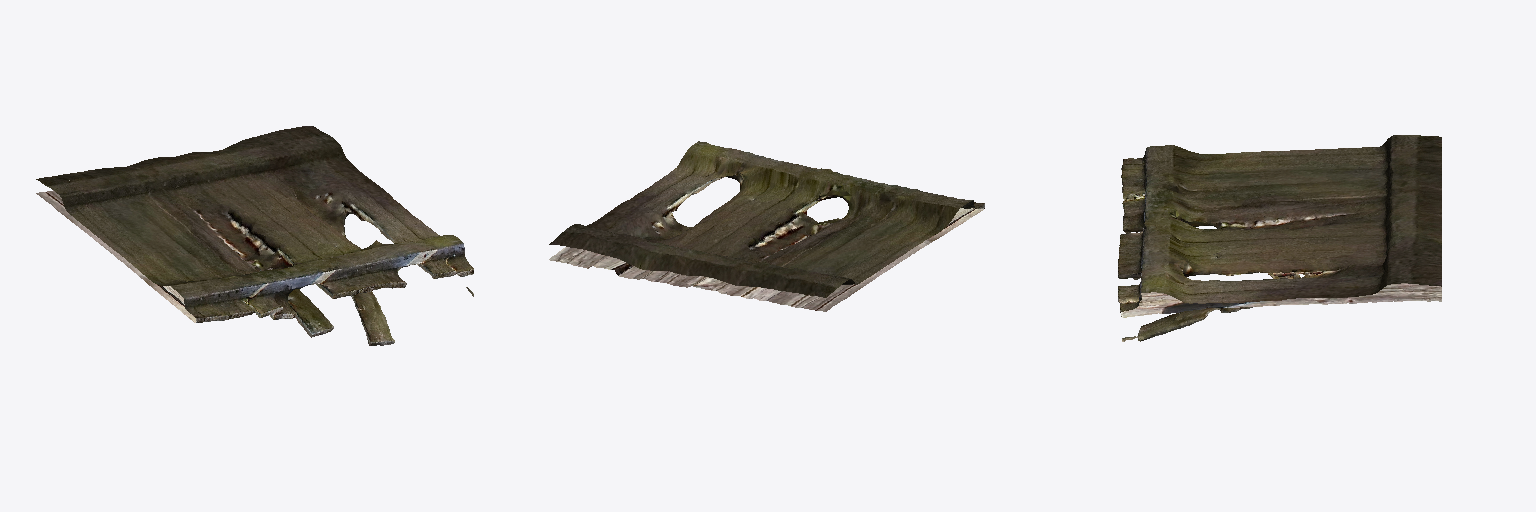
The picture shows the model from 3 angles: view 1: azimuth 30°, elevation 25°; view 2: azimuth 150°, elevation 25°; view 3: azimuth 270°, elevation 25°; orthographic projection.
Size of the model in its own units: 1.04 by 0.3818 by 1.05.
Materials: 2 (1 with a texture image).